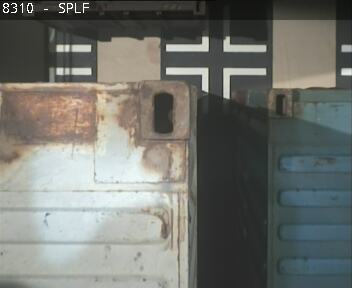groundmarker_1: (165, 68, 268, 115), (165, 11, 267, 52), (46, 25, 92, 83)
